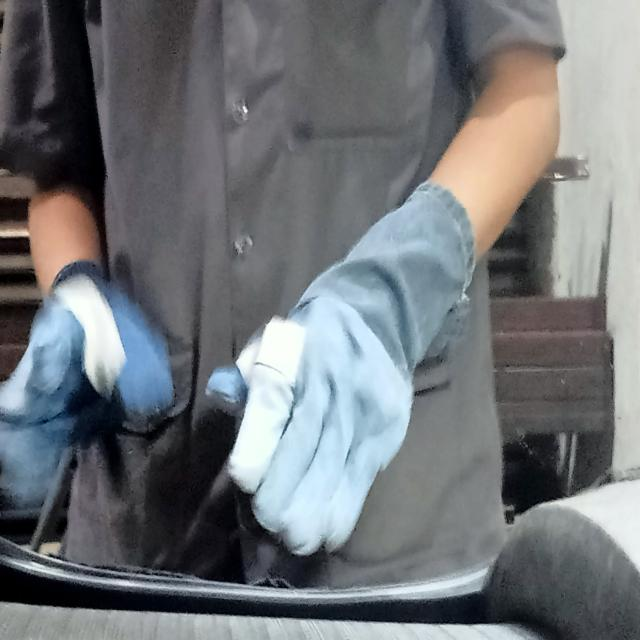Gloves-Detection: (262, 247, 438, 509), (9, 290, 168, 484)
